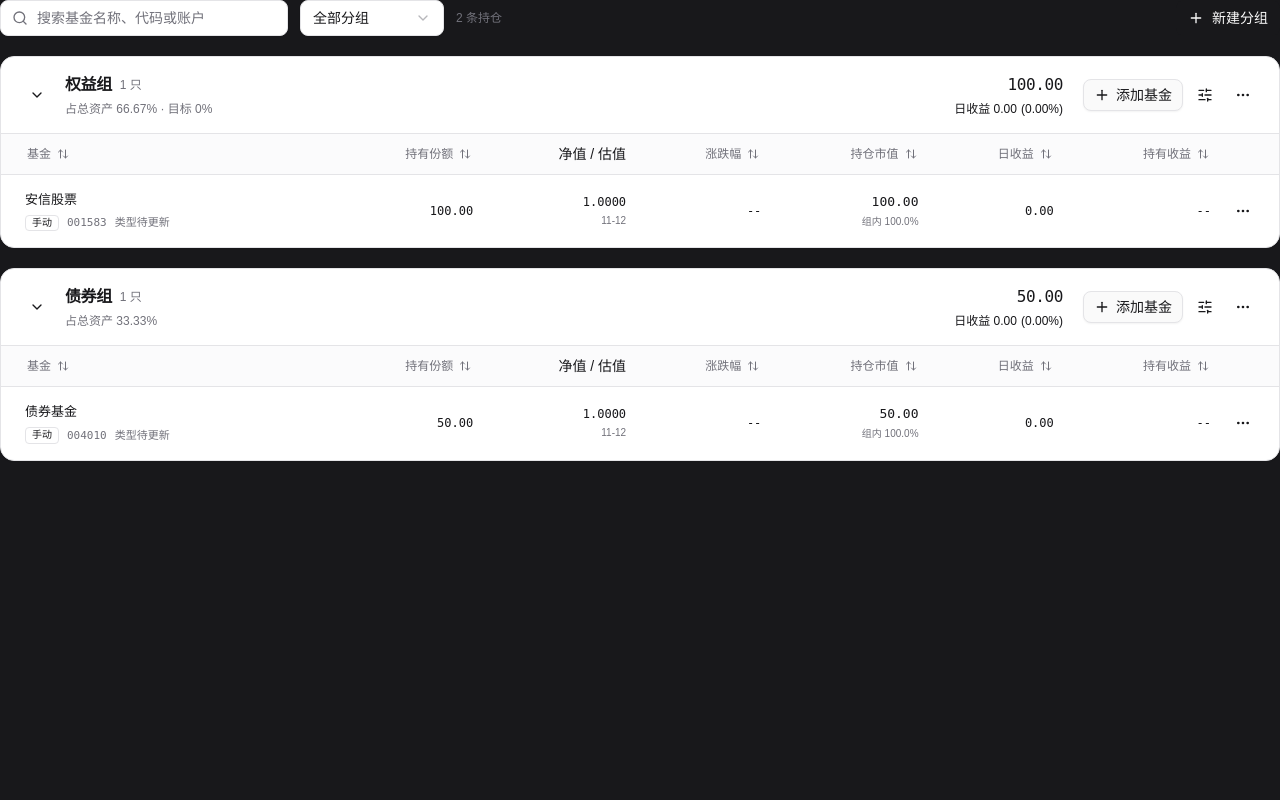
Scenario: 新建分组保存失败时保留弹窗和输入
Click the button "新建分组": coordinates (1228, 18) [1176,0,1279,36]
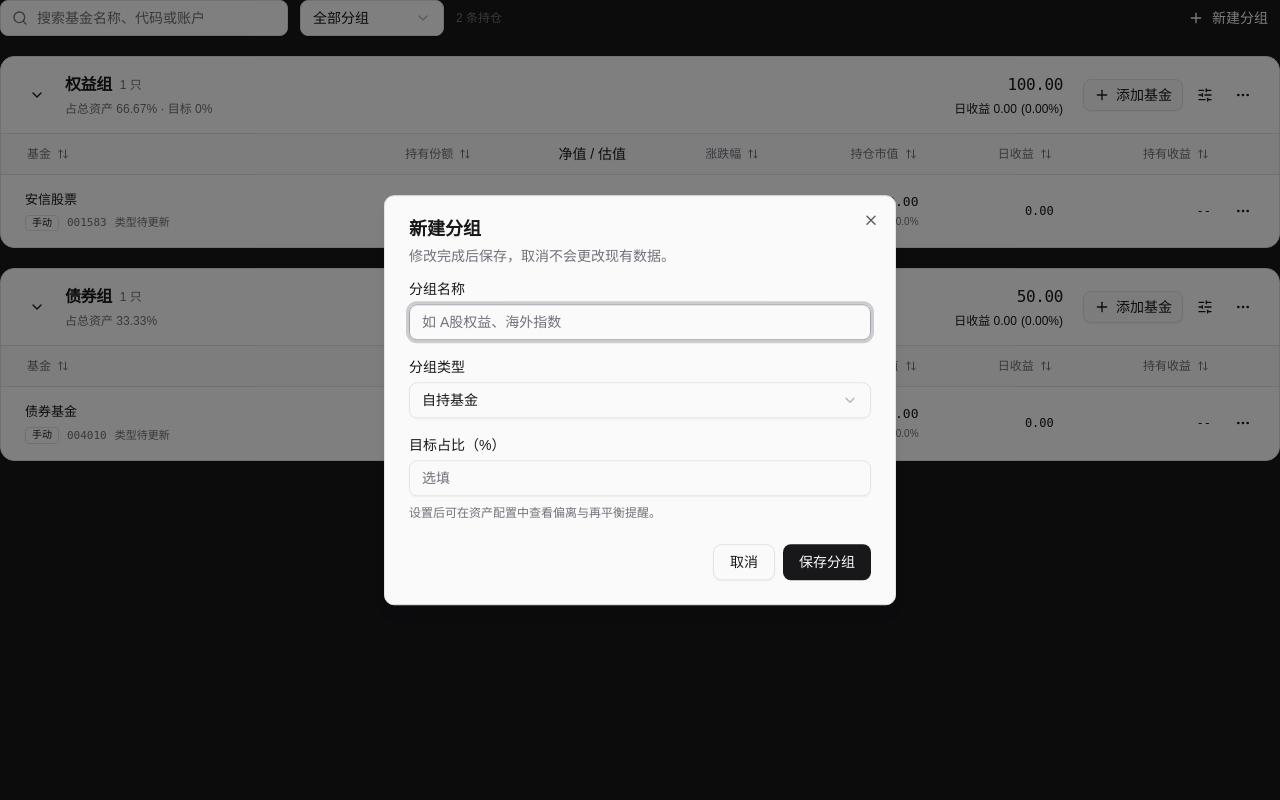
In the field labelled "分组名称": coordinates (640, 322) [409,304,871,340], type "测试分组"
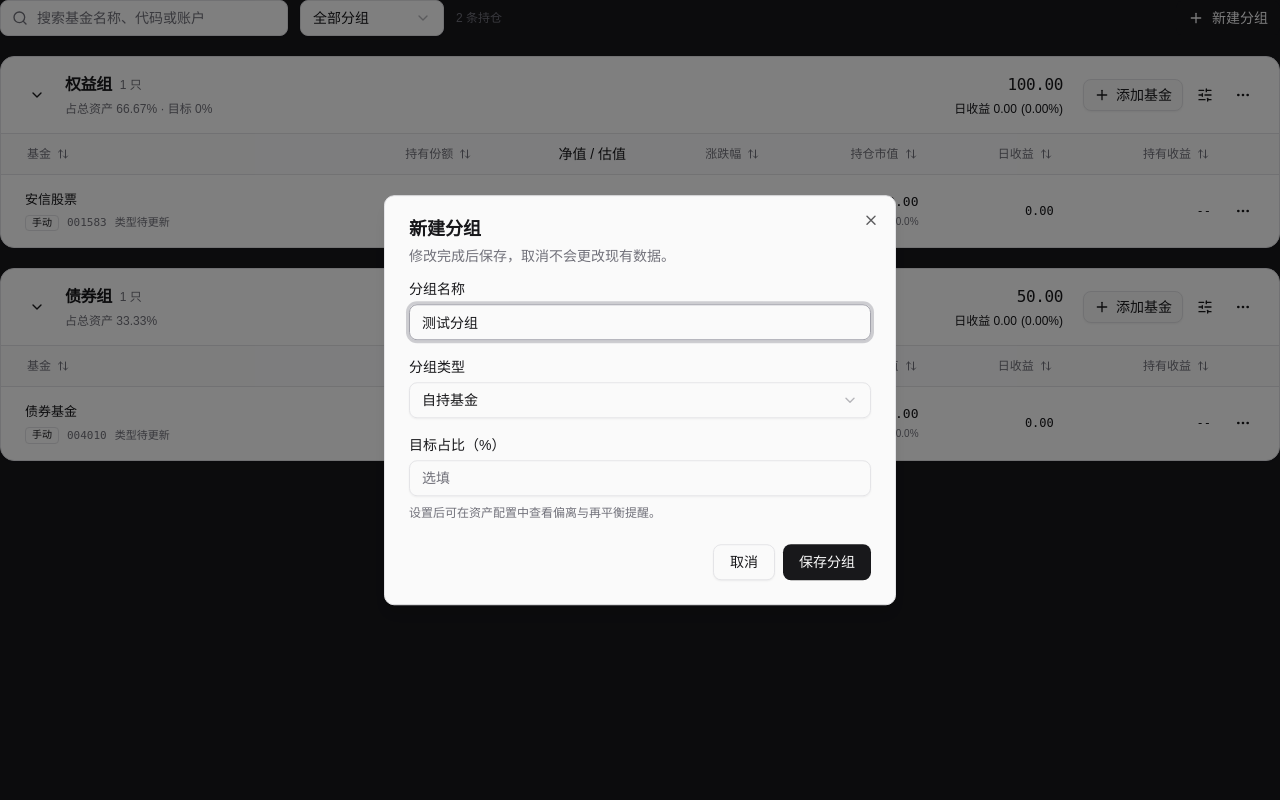
Click the button "保存分组": coordinates (827, 562) [783,544,871,580]
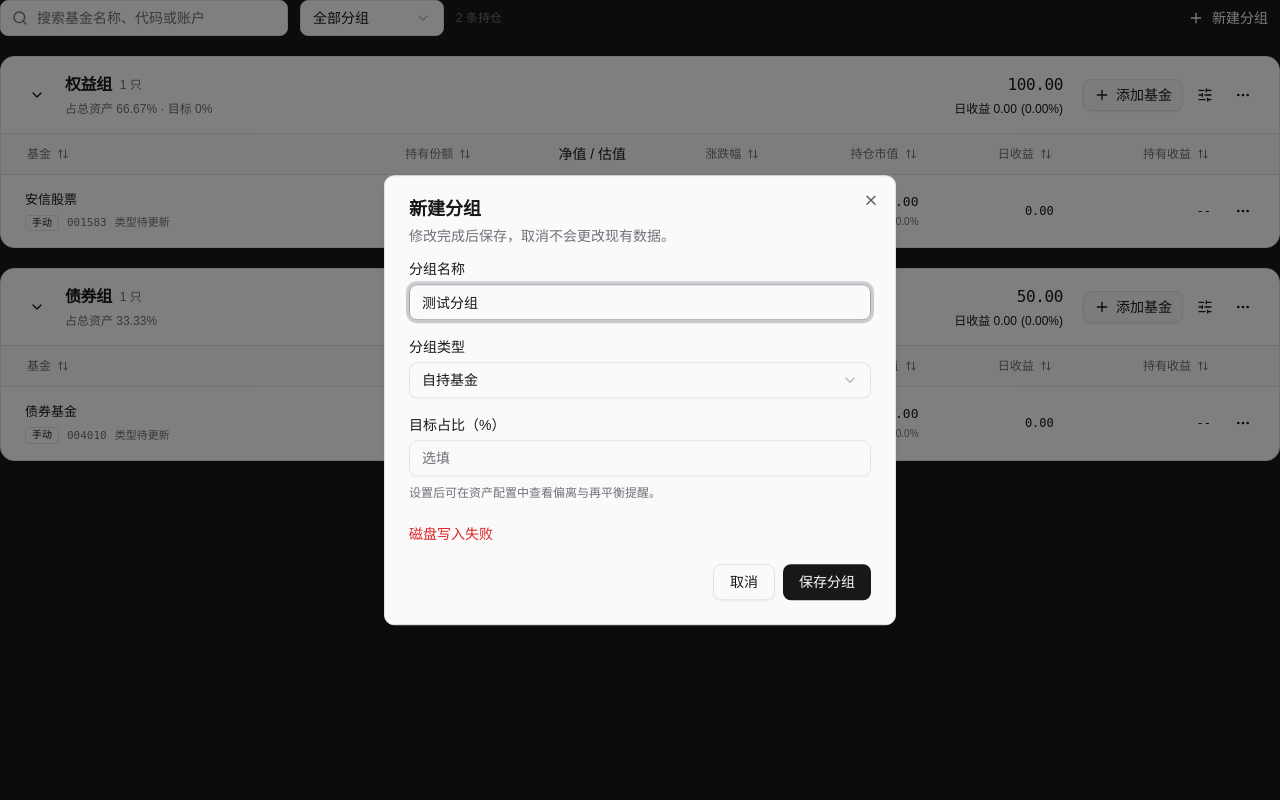
expect the message reads "磁盘写入失败": met, box [409,526,493,542]
